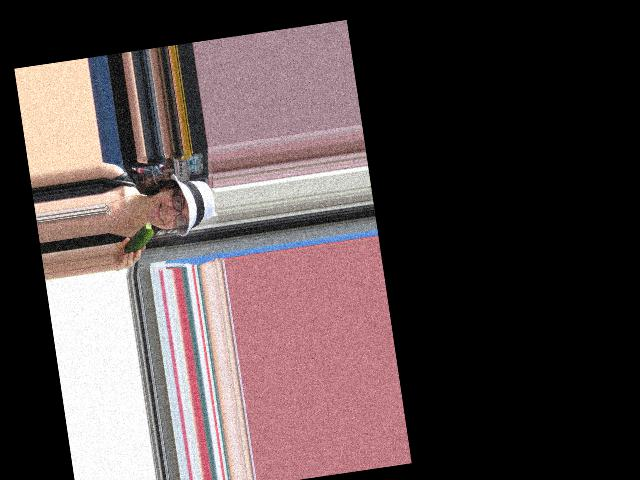cucumber: (120, 222, 156, 255)
